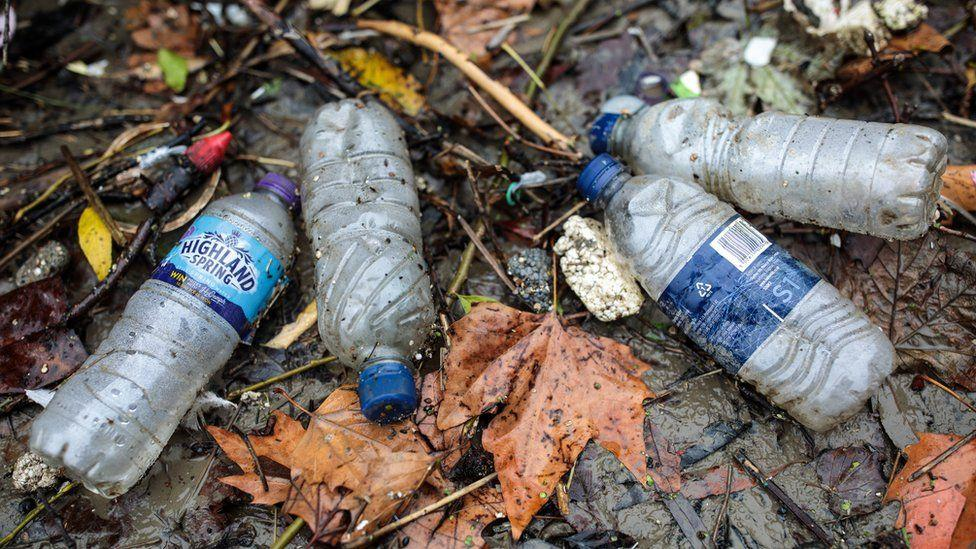plastic_bottle: (573, 150, 905, 430), (19, 170, 300, 482), (574, 69, 958, 245), (286, 87, 448, 430)
